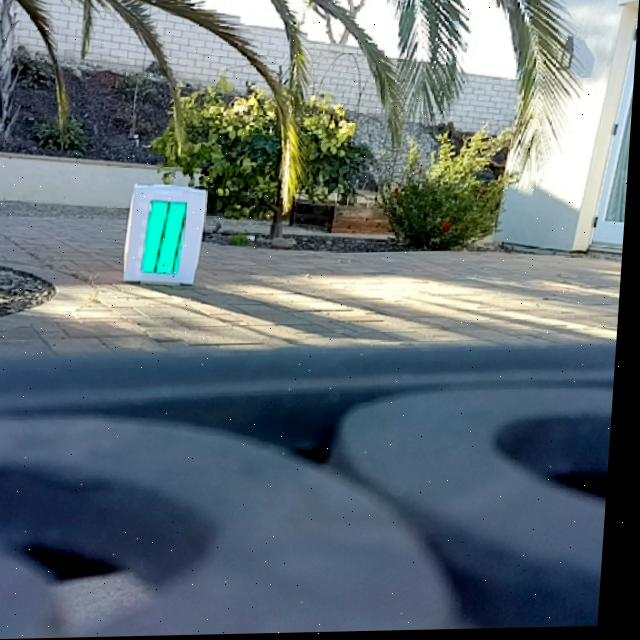led: (144, 198, 192, 277)
